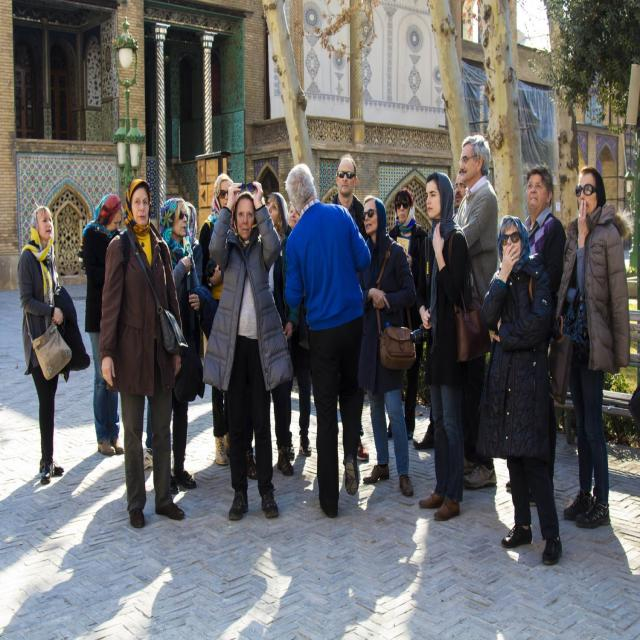body: (0, 485, 639, 639), (282, 162, 372, 520), (202, 178, 294, 525), (98, 176, 185, 528), (479, 213, 563, 567), (554, 162, 632, 529), (417, 170, 491, 524), (506, 164, 568, 505), (16, 204, 90, 485), (355, 192, 417, 500), (452, 133, 500, 489), (245, 191, 295, 479), (158, 196, 202, 494), (197, 172, 240, 468), (331, 154, 370, 462), (80, 192, 125, 458), (159, 200, 202, 472), (386, 190, 430, 442), (285, 200, 314, 460), (374, 439, 490, 481), (194, 458, 326, 485), (59, 458, 99, 483), (453, 171, 469, 212)
